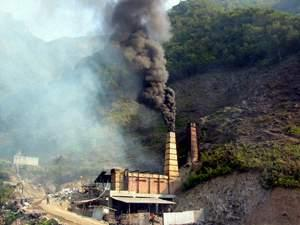smoke: (105, 1, 179, 129)
